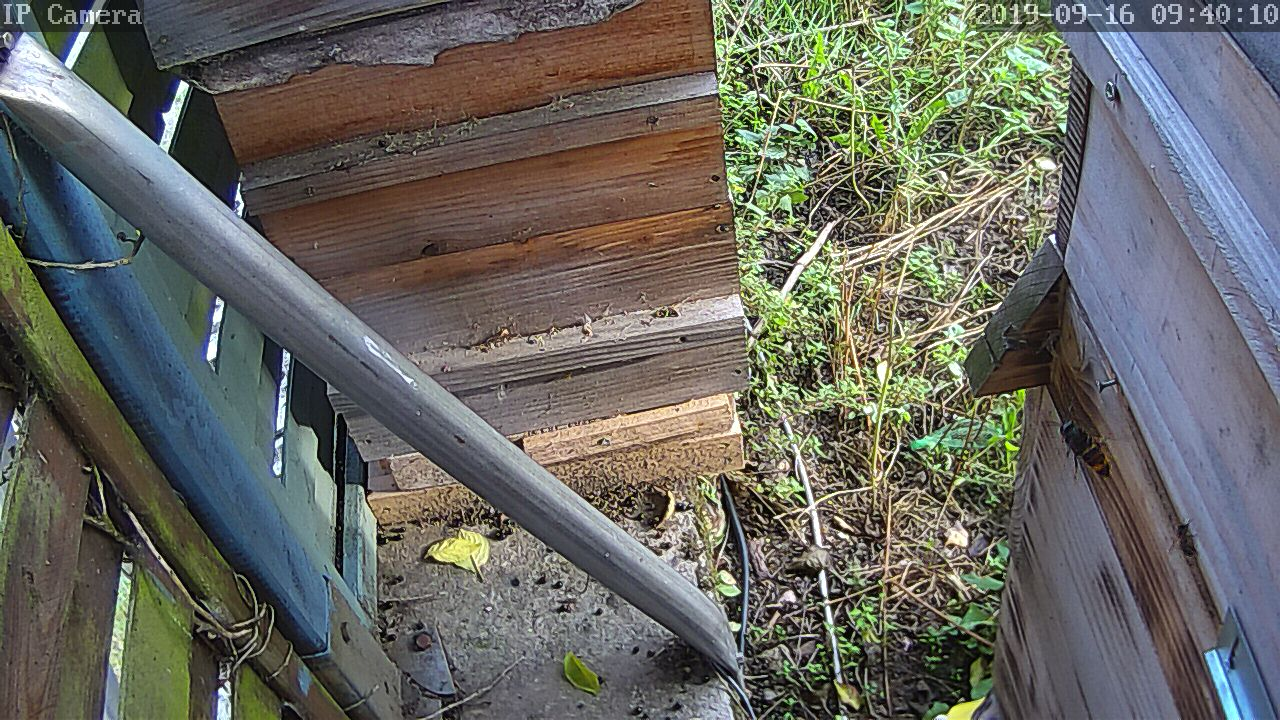bee: (1174, 519, 1200, 557)
hornet: (1052, 415, 1121, 483)
